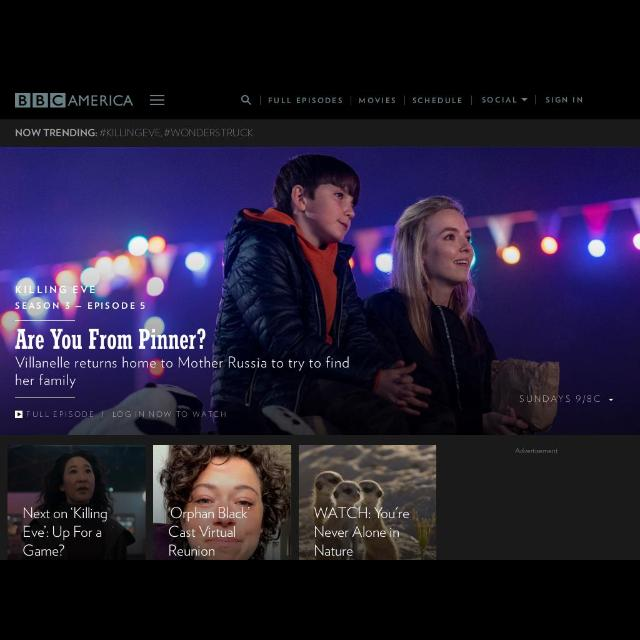icon: (150, 94, 164, 106), (242, 96, 250, 104), (522, 96, 528, 102)
iframe: (442, 442, 640, 560)
image: (1, 148, 639, 434), (299, 445, 437, 559), (153, 445, 291, 559), (10, 444, 144, 558), (15, 93, 133, 111)
spinner: (481, 95, 529, 106)
text: (15, 128, 254, 138), (268, 97, 342, 103), (358, 96, 396, 105), (412, 98, 462, 104), (546, 96, 582, 104), (482, 96, 516, 104)
toolbar: (1, 82, 639, 120)
